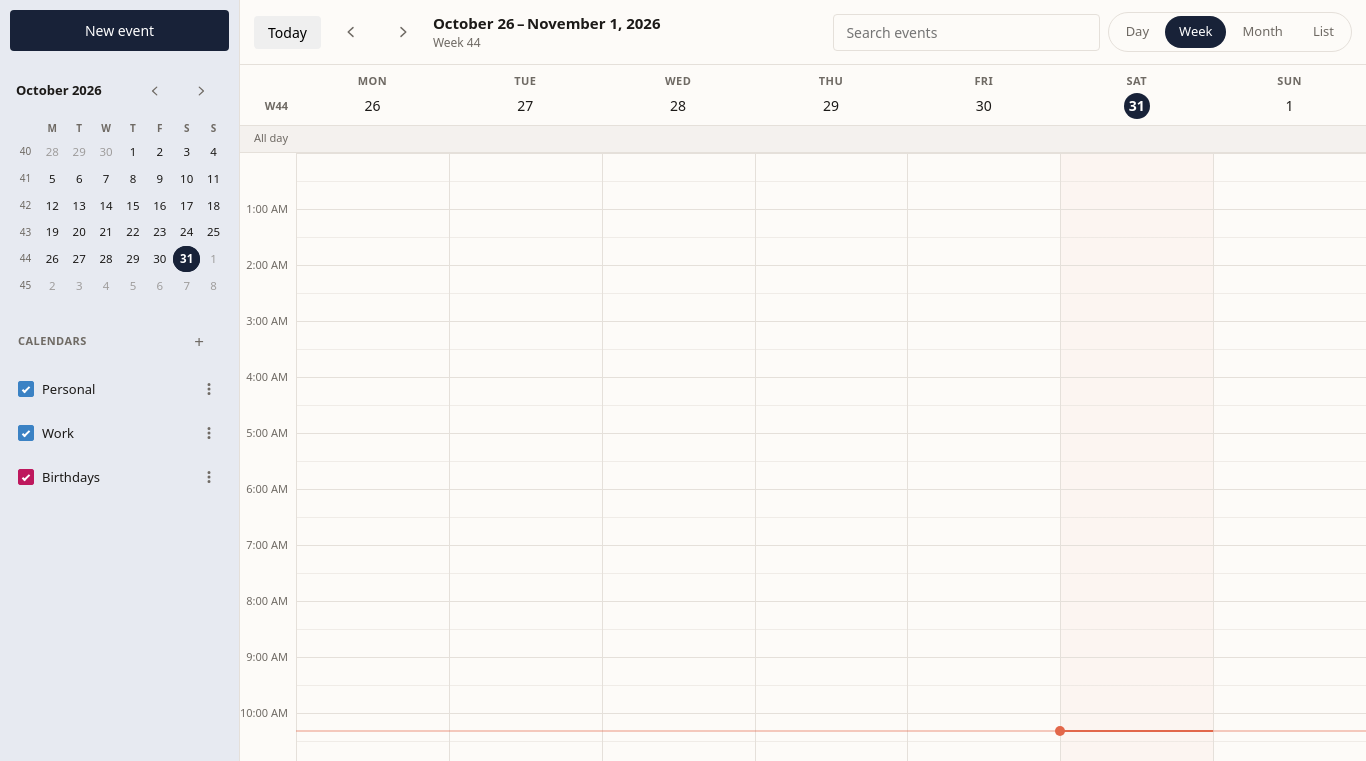
Test: CalendarLayout — the birthdays calendar › turns birthdays off behind a primary confirm
The width and height of the screenshot is (1366, 761).
Click the button named "Actions for Birthdays": (209, 477) [187,455,231,499]
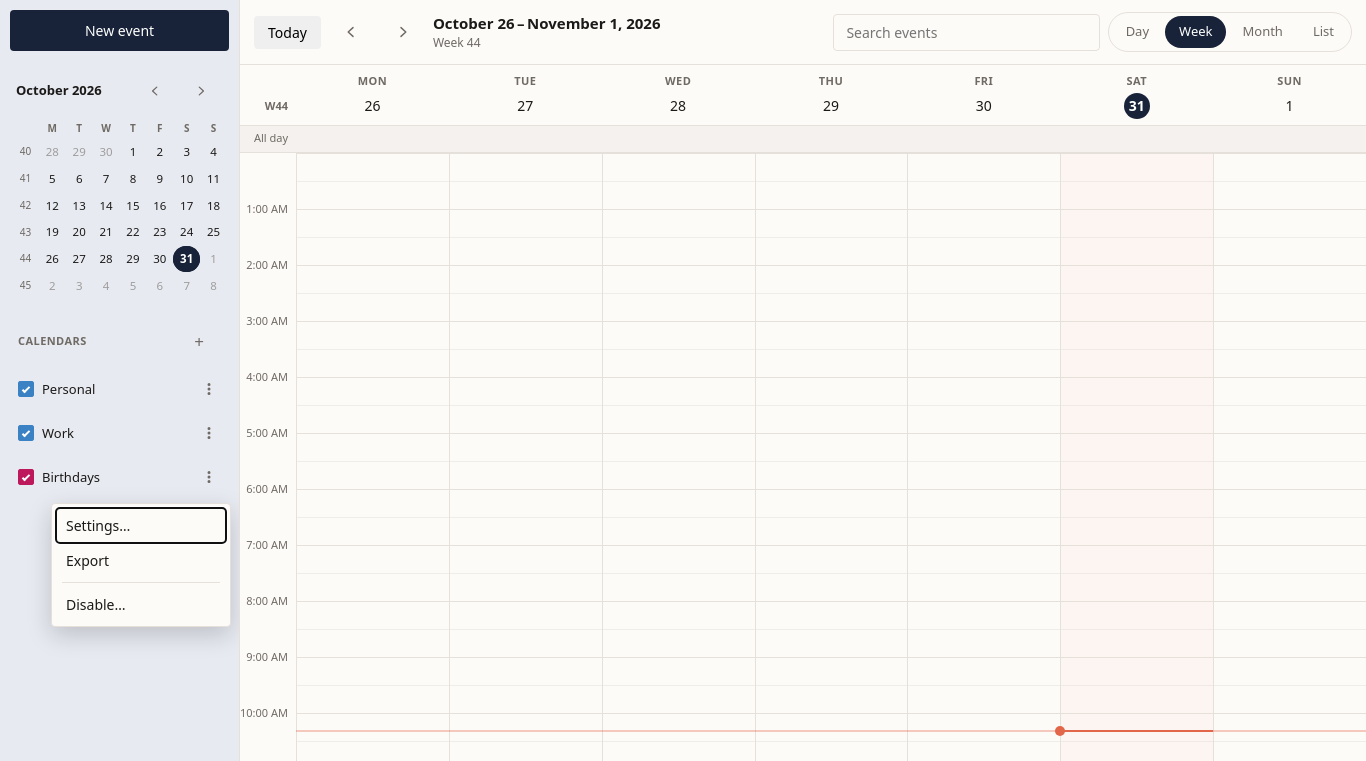
Click the menu item "Disable…": (141, 605) [56,587,226,622]
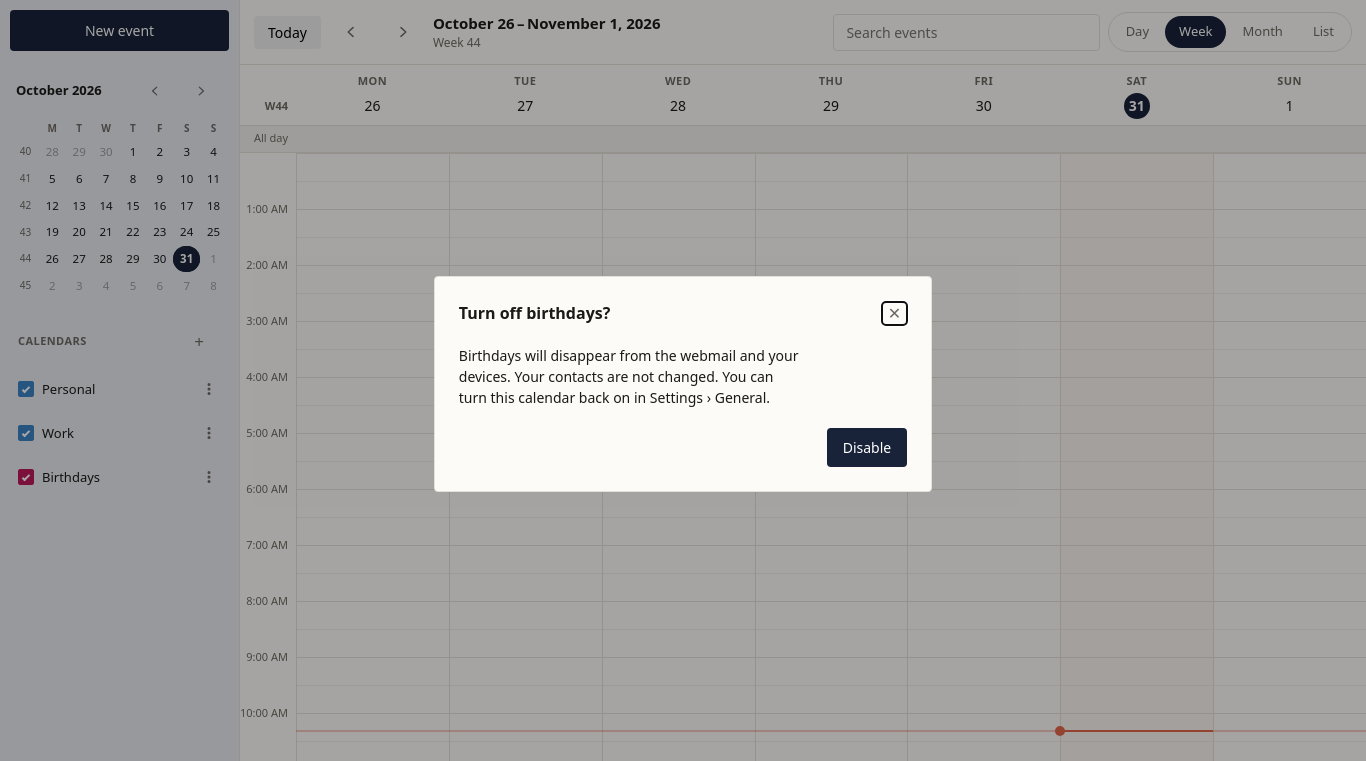
Click the button "Disable": (867, 448) [827,428,907,467]
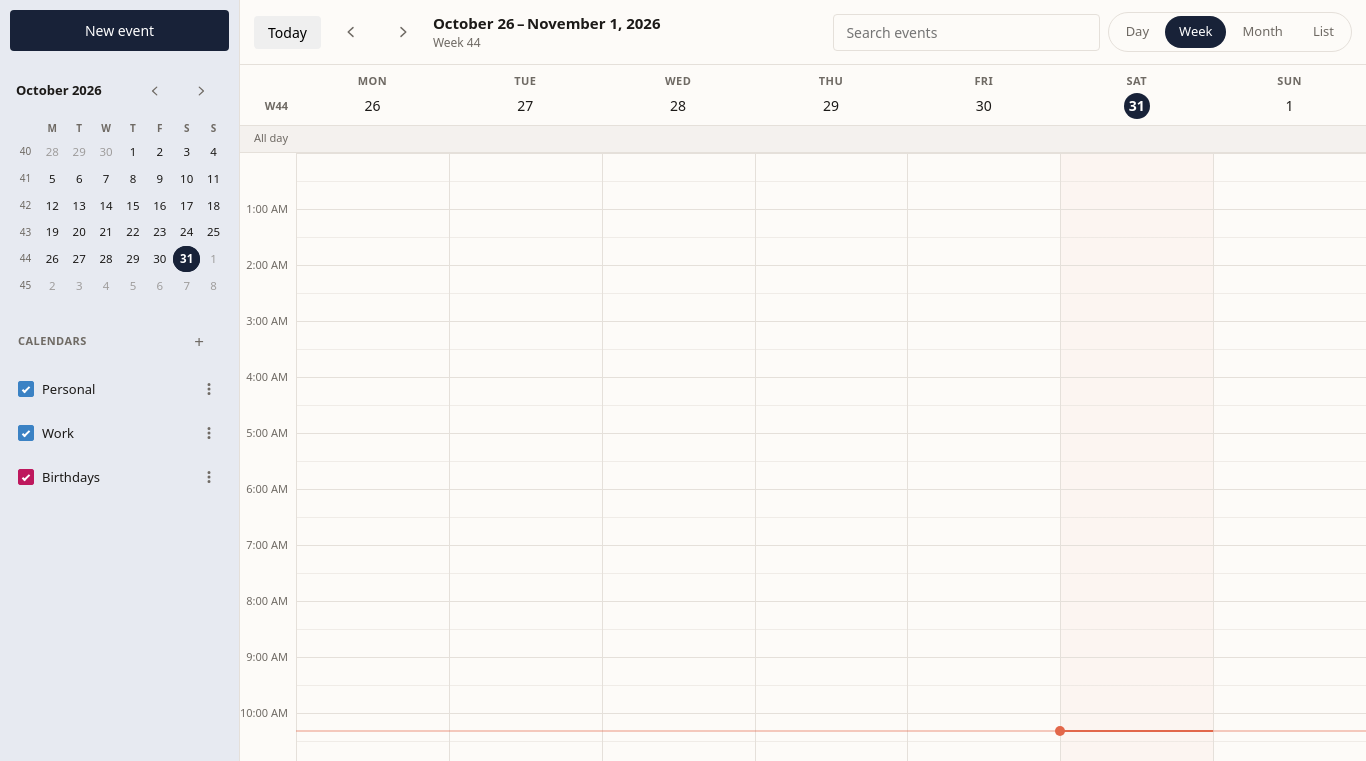
Expected: the dialog is gone
